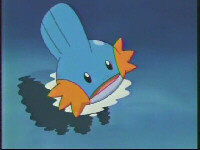mudkip: (15, 3, 134, 135)
